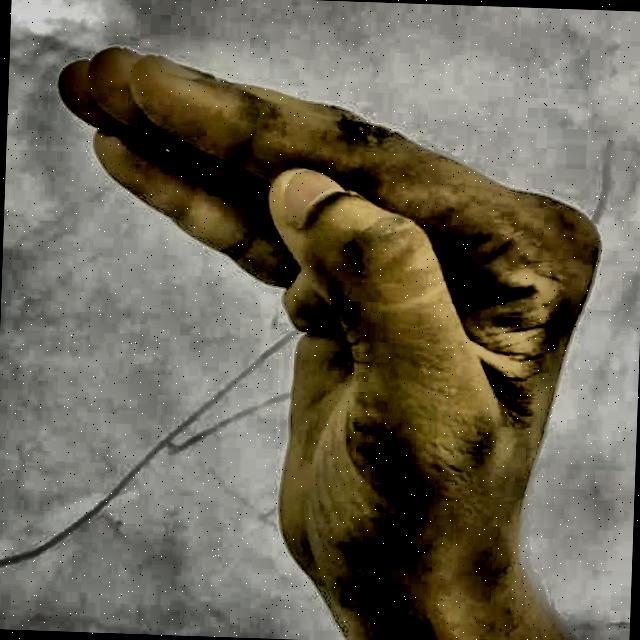Ga: (24, 14, 626, 608)
